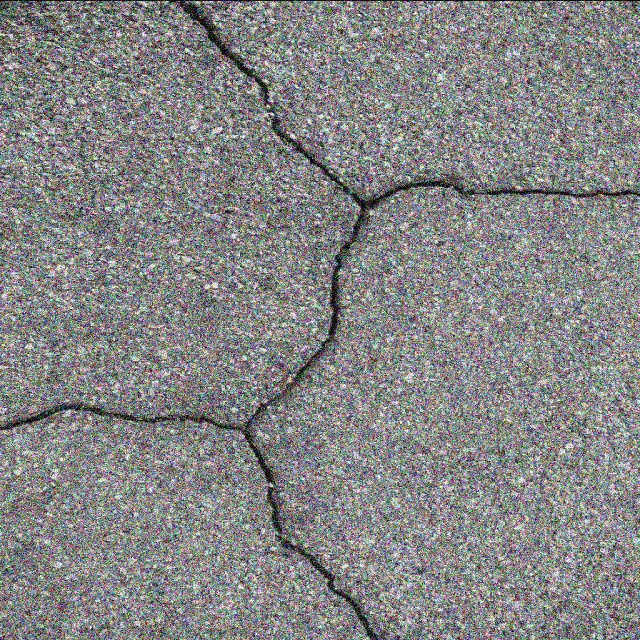SurfaceCrack: (15, 0, 412, 638)
